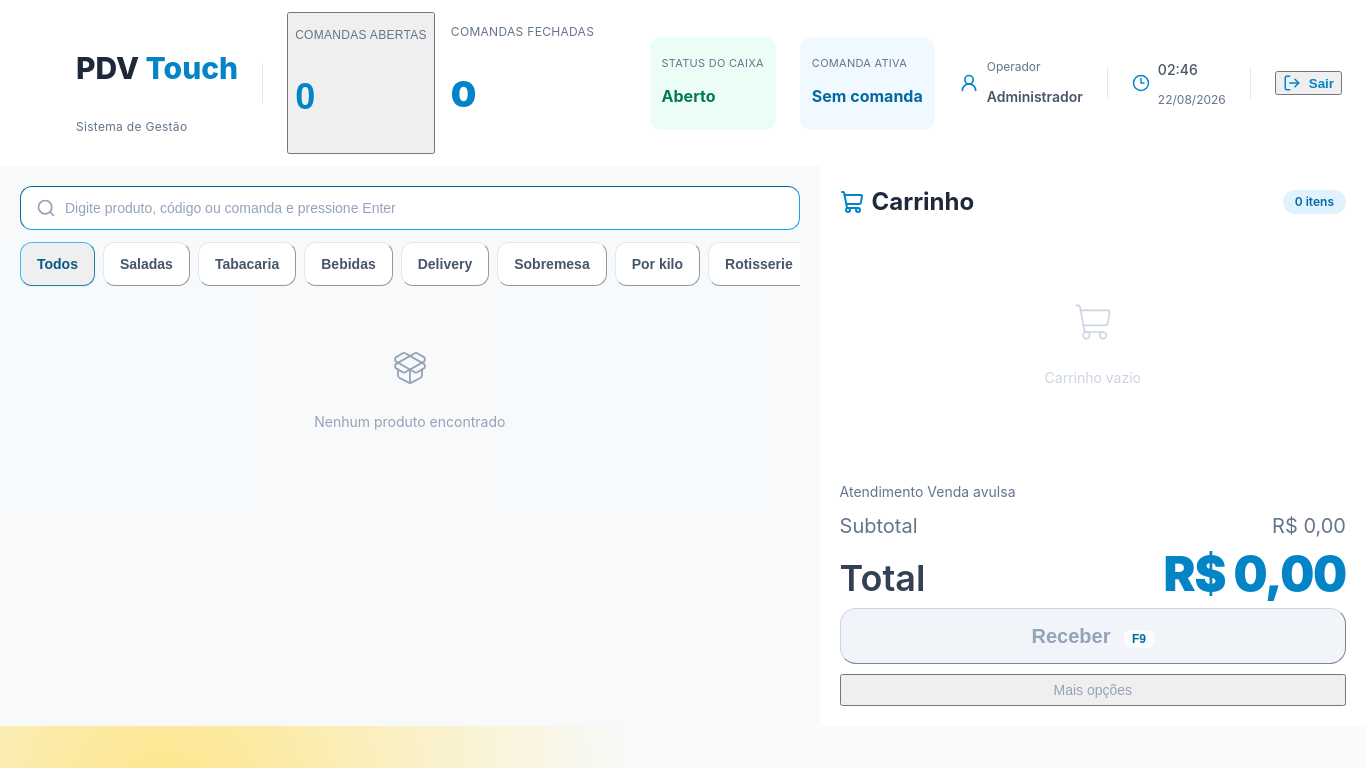
Carregamento da comanda no caixa › não sobrescreve os itens do backend com um carrinho vazio durante a abertura
The image size is (1366, 768).
Type "1" into the field with placeholder "Digite produto, código ou comanda e pressione Enter" at (410, 208), box [20,186,800,230]
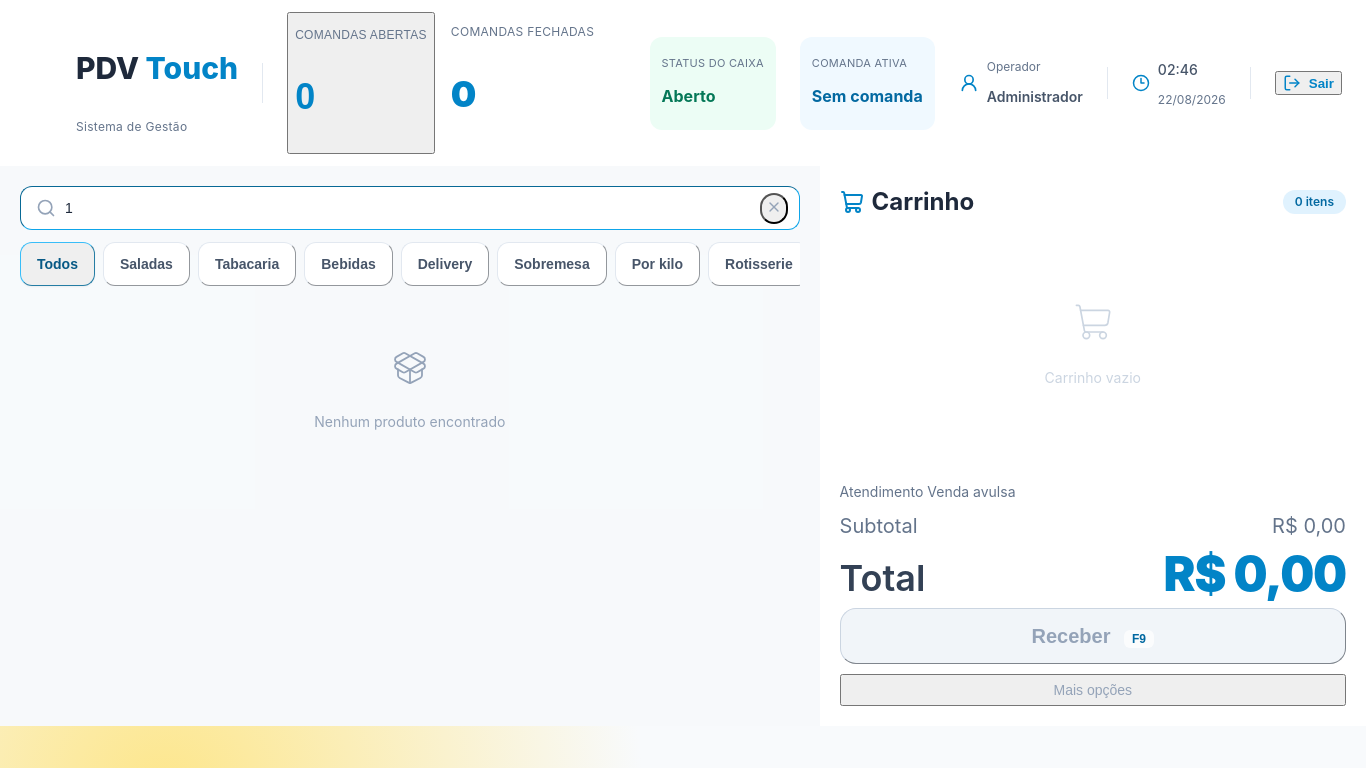
Press Enter in the field with placeholder "Digite produto, código ou comanda e pressione Enter", box [20,186,800,230]
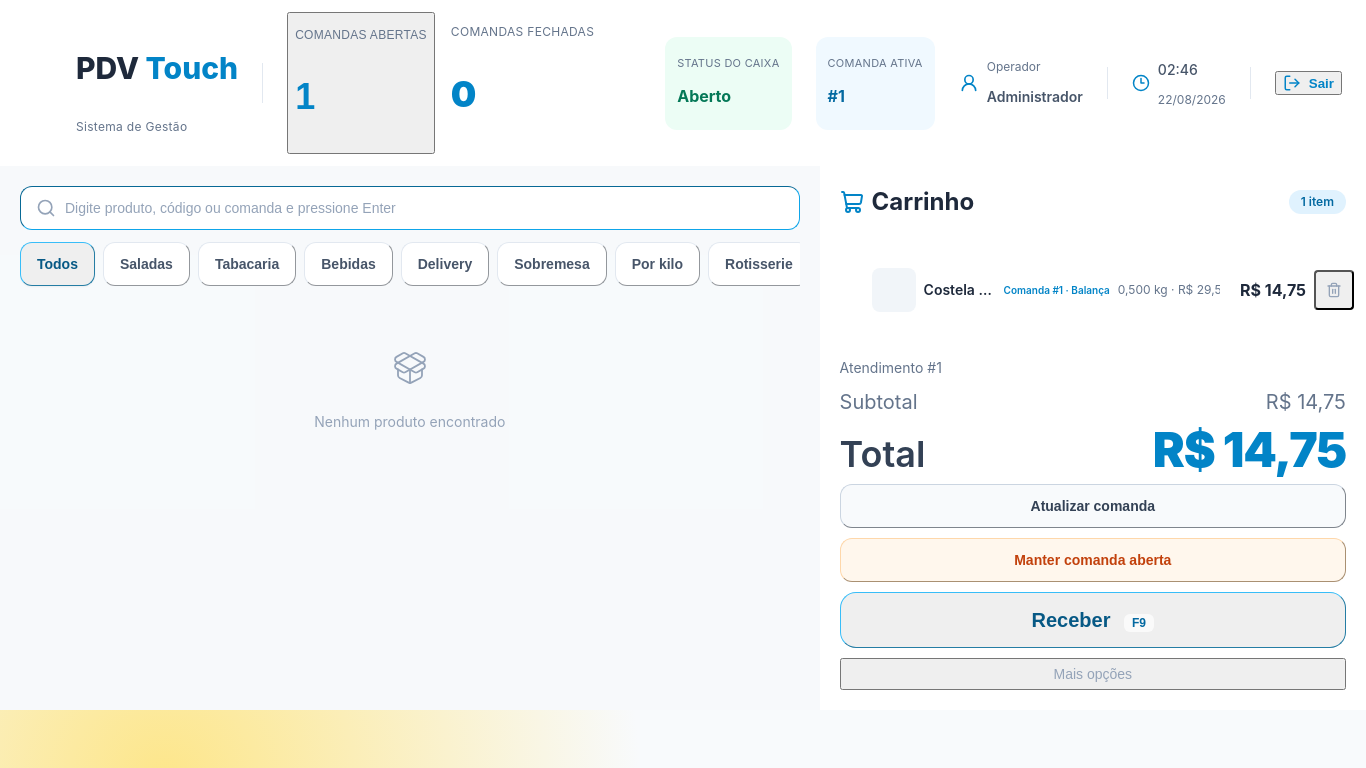
Now the text "Costela bovina" is shown, box [924,280,996,300]
Now the text "R$ 14,75" in the row of "Costela bovina" is shown, box [1240,280,1306,300]
